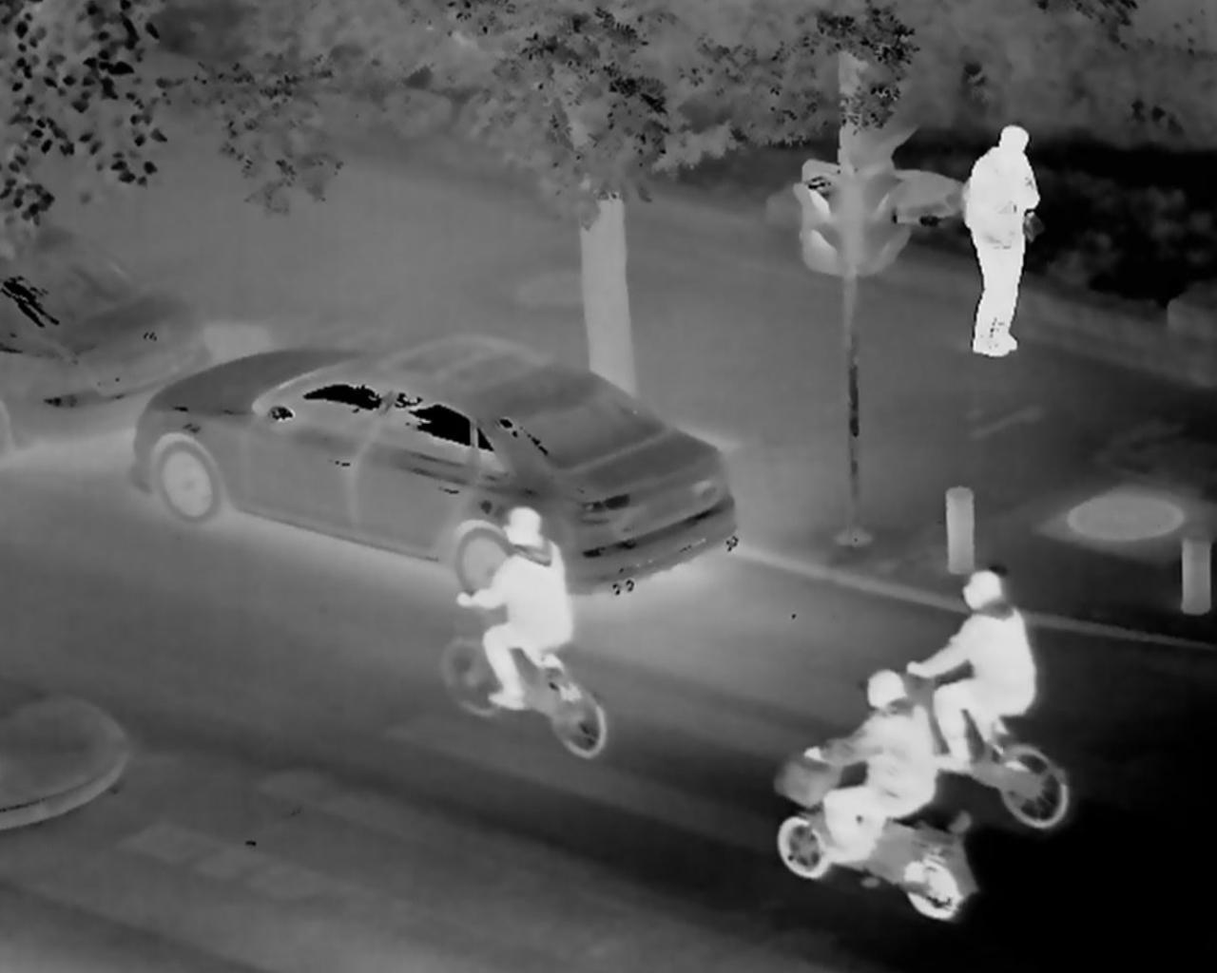person: (887, 571, 1045, 792), (804, 670, 958, 885), (451, 502, 581, 720), (953, 109, 1051, 364)
